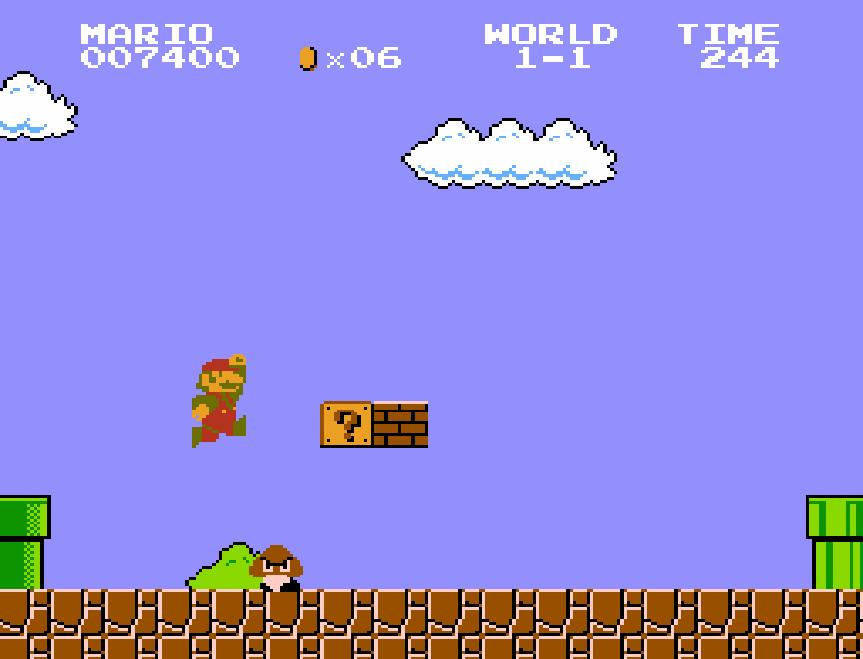big_mario: (190, 352, 247, 450)
